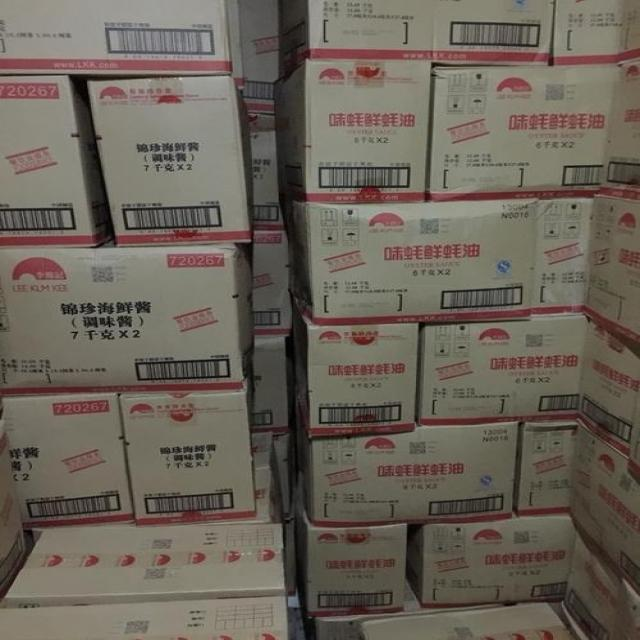Carton: (308, 326, 516, 524), (0, 244, 232, 388), (84, 70, 251, 244), (312, 204, 532, 320), (438, 68, 620, 192), (6, 520, 279, 599), (274, 62, 426, 198), (416, 315, 590, 421), (3, 393, 132, 532), (120, 392, 256, 523), (0, 79, 90, 243)
